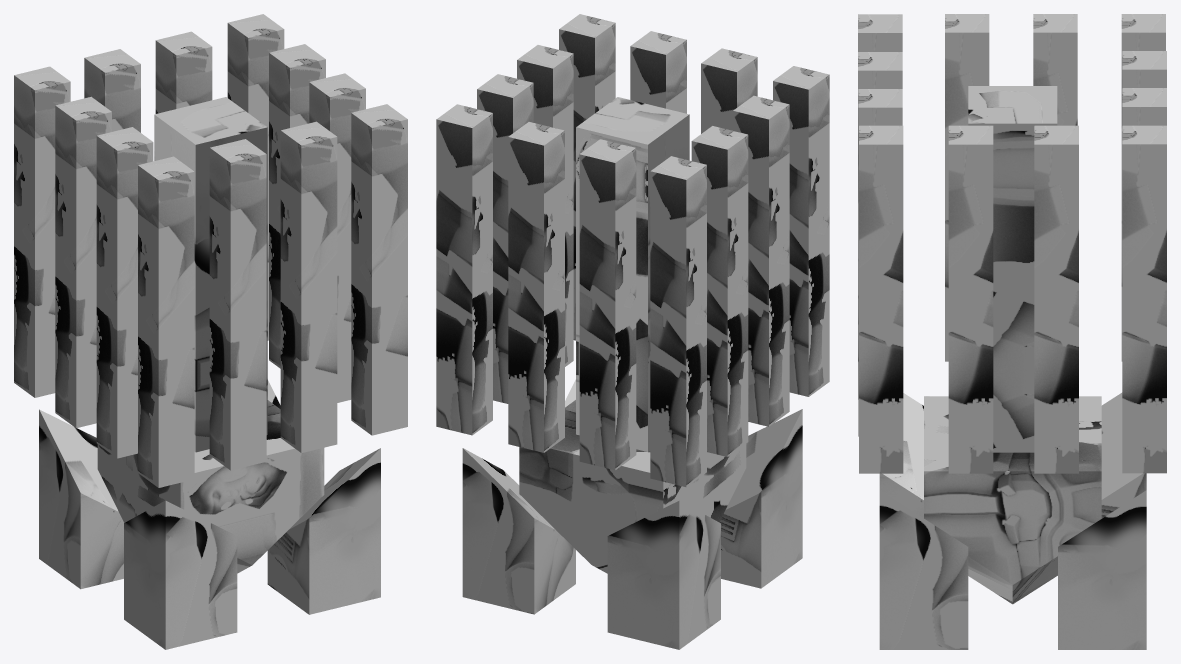
Rendered from Flag_turn2.fbx.
3 views of the same model, side by side, from view 1: azimuth 30°, elevation 25°; view 2: azimuth 150°, elevation 25°; view 3: azimuth 270°, elevation 25° (orthographic). The views are drawn at different scales.
Visible parts, largest first — view 1: Difference1_002; view 2: Difference1_002; view 3: Difference1_002.
Part boxes in pixels (bbox=[...]): Difference1_002: bbox=[14, 14, 407, 649]; Difference1_002: bbox=[436, 14, 829, 649]; Difference1_002: bbox=[858, 14, 1166, 649].
Bounding box in the file's own units: 692 × 1297 × 691.
